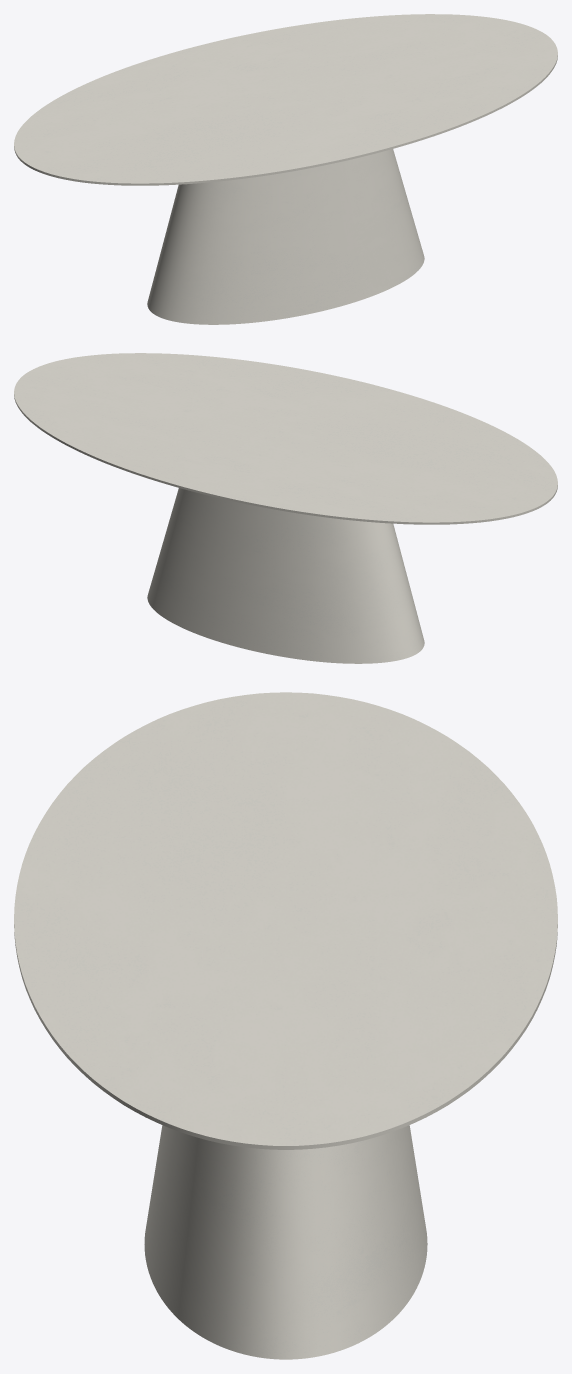
The model's file is pale_ellips_facet_eqone.glb.
3 views of the same model, one above another, from view 1: azimuth 30°, elevation 25°; view 2: azimuth 150°, elevation 25°; view 3: azimuth 270°, elevation 25° (orthographic). The views are drawn at different scales.
Parts seen in each view (by area): view 1: facet_ellips, eqone; view 2: facet_ellips, eqone; view 3: facet_ellips, eqone.
Boxes of the visible parts, x1=… form: facet_ellips: x1=14, y1=14, x2=557, y2=185; eqone: x1=147, y1=149, x2=424, y2=324; facet_ellips: x1=14, y1=353, x2=557, y2=524; eqone: x1=147, y1=488, x2=424, y2=663; facet_ellips: x1=14, y1=692, x2=557, y2=1149; eqone: x1=144, y1=1125, x2=427, y2=1359.
Bounding box in the file's own units: 7.5 × 2.51 × 3.8.
Materials: 1 (1 with a texture image).
